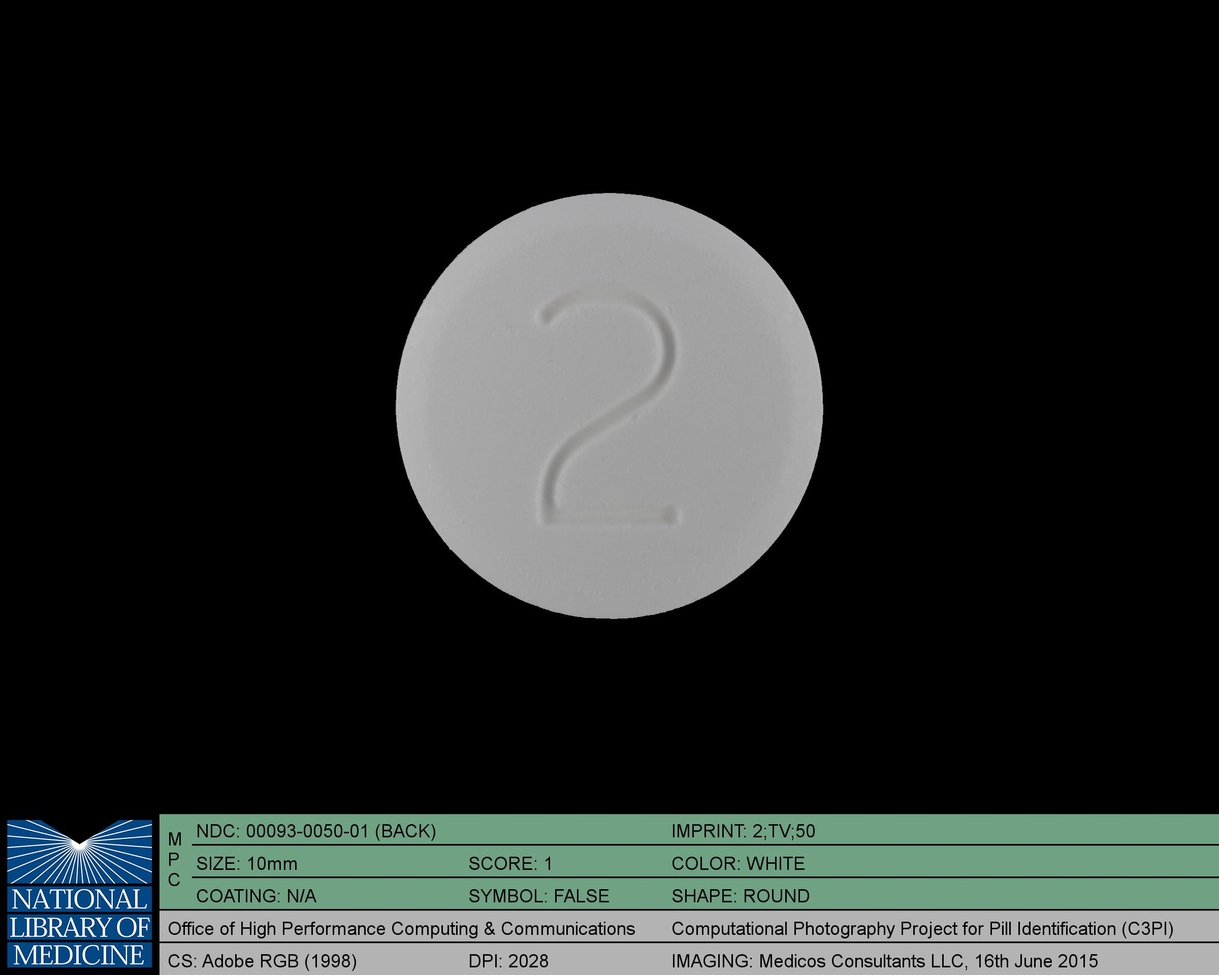Pill: (384, 181, 835, 628)
